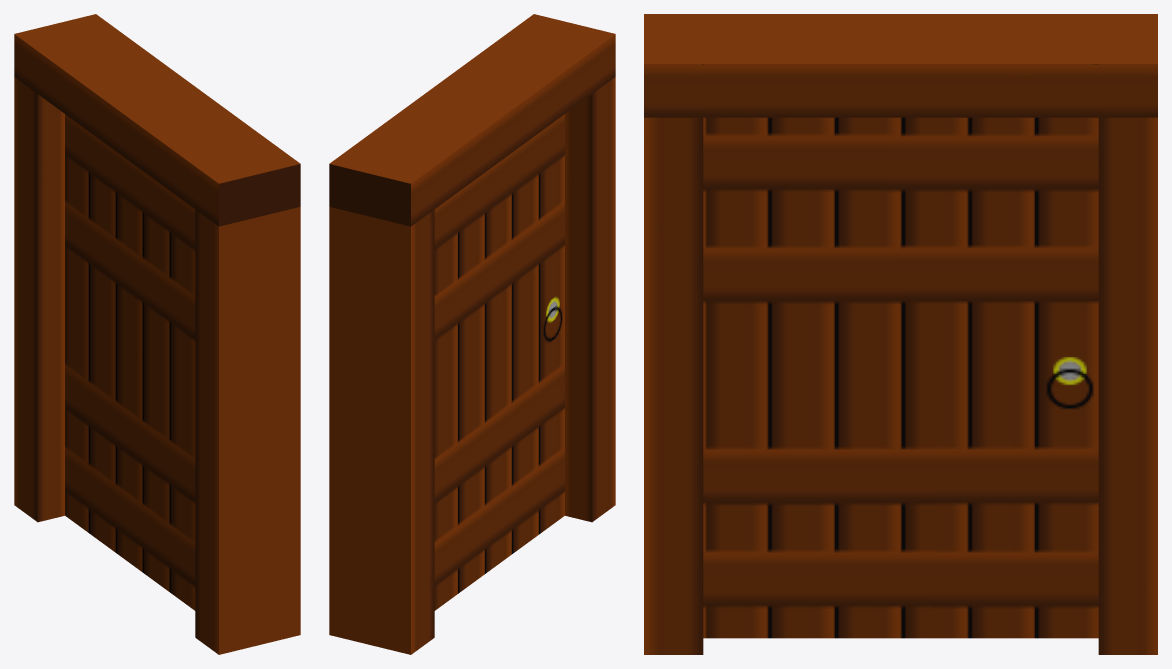
Rendered from Door Model.fbx.
3 views of the same model, side by side, from view 1: azimuth 30°, elevation 25°; view 2: azimuth 150°, elevation 25°; view 3: azimuth 270°, elevation 25° (orthographic). The views are drawn at different scales.
Parts seen in each view (by area): view 1: Cube; view 2: Cube; view 3: Cube.
Boxes of the visible parts, bbox=[...] form: Cube: bbox=[14, 14, 300, 654]; Cube: bbox=[329, 14, 615, 654]; Cube: bbox=[644, 14, 1157, 654].
Size of the model in its own units: 60 by 330 by 260.
4 materials, 2 textured.
